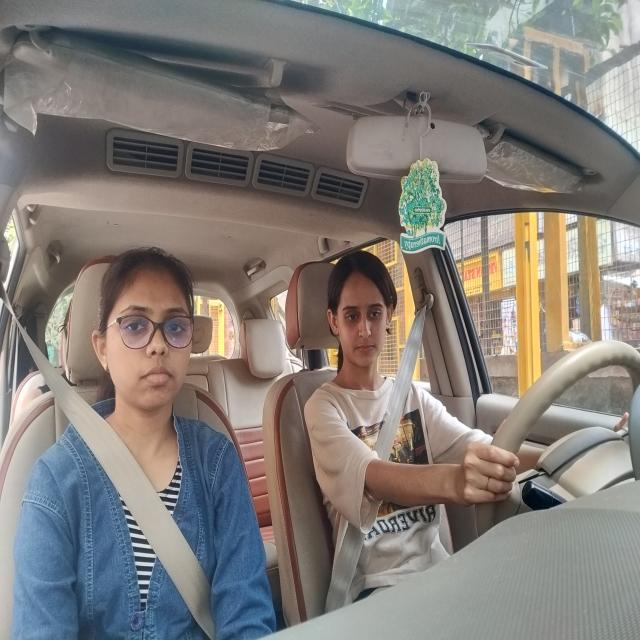person: (313, 240, 410, 398), (90, 231, 135, 289)
